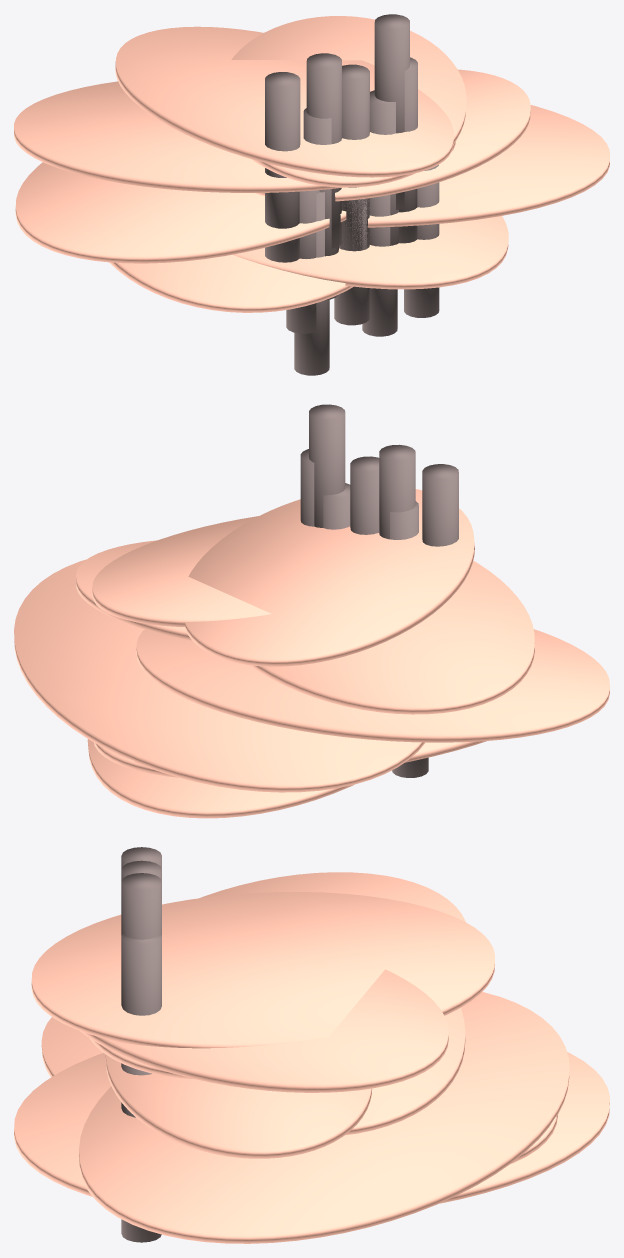
Rendered from coral-table-01.glb.
3 renders of one model, top to bottom at view 1: azimuth 30°, elevation 25°; view 2: azimuth 150°, elevation 25°; view 3: azimuth 270°, elevation 25°, orthographic. The views are drawn at different scales.
Parts seen in each view (by area): view 1: coral_table_01_plate_02, coral_table_01_plate_04, coral_table_01_plate_03, coral_table_01_plate_07, coral_table_01_plate_06, coral_table_01_plate_01, coral_table_01_plate_05, coral_table_01_plate_00, coral_table_01_stem_05, coral_table_01_stem_03, coral_table_01_stem_02, coral_table_01_stem_04 (+8 smaller); view 2: coral_table_01_plate_07, coral_table_01_plate_02, coral_table_01_plate_04, coral_table_01_plate_03, coral_table_01_plate_01, coral_table_01_plate_06, coral_table_01_stem_02, coral_table_01_stem_05, coral_table_01_stem_04, coral_table_01_stem_03, coral_table_01_plate_00, coral_table_01_plate_05 (+3 smaller); view 3: coral_table_01_plate_07, coral_table_01_plate_02, coral_table_01_plate_01, coral_table_01_plate_00, coral_table_01_plate_06, coral_table_01_plate_03, coral_table_01_plate_04, coral_table_01_stem_01, coral_table_01_stem_02, coral_table_01_plate_05, coral_table_01_stem_11, coral_table_01_stem_05 (+1 smaller).
Part boxes in pixels (x1,y1,x2,y2): coral_table_01_plate_02: [115, 26, 453, 177]; coral_table_01_plate_04: [15, 162, 346, 263]; coral_table_01_plate_03: [14, 81, 455, 192]; coral_table_01_plate_07: [367, 105, 609, 227]; coral_table_01_plate_06: [233, 216, 508, 289]; coral_table_01_plate_01: [231, 16, 466, 187]; coral_table_01_plate_05: [109, 254, 353, 312]; coral_table_01_plate_00: [255, 69, 530, 201]; coral_table_01_stem_05: [265, 72, 300, 262]; coral_table_01_stem_03: [339, 64, 369, 251]; coral_table_01_stem_02: [374, 14, 409, 209]; coral_table_01_stem_04: [306, 53, 341, 248]; coral_table_01_plate_07: [14, 559, 424, 792]; coral_table_01_plate_02: [184, 489, 474, 666]; coral_table_01_plate_04: [136, 629, 609, 742]; coral_table_01_plate_03: [250, 561, 534, 714]; coral_table_01_plate_01: [92, 516, 271, 626]; coral_table_01_plate_06: [87, 739, 353, 818]; coral_table_01_stem_02: [309, 404, 345, 527]; coral_table_01_stem_05: [422, 464, 458, 546]; coral_table_01_stem_04: [379, 444, 415, 539]; coral_table_01_stem_03: [350, 456, 379, 534]; coral_table_01_plate_00: [76, 540, 191, 640]; coral_table_01_plate_05: [94, 741, 486, 777]; coral_table_01_plate_07: [78, 992, 569, 1243]; coral_table_01_plate_02: [31, 892, 494, 1048]; coral_table_01_plate_01: [80, 969, 448, 1092]; coral_table_01_plate_00: [105, 1054, 372, 1158]; coral_table_01_plate_06: [14, 1052, 609, 1203]; coral_table_01_plate_03: [89, 872, 466, 1079]; coral_table_01_plate_04: [345, 1008, 465, 1135]; coral_table_01_stem_01: [121, 933, 161, 1015]; coral_table_01_stem_02: [121, 873, 161, 939]; coral_table_01_plate_05: [41, 1017, 557, 1163]; coral_table_01_stem_11: [121, 1063, 161, 1242]; coral_table_01_stem_05: [121, 847, 161, 868].
Size of the model in its own units: 2.66 by 1.52 by 2.21.
